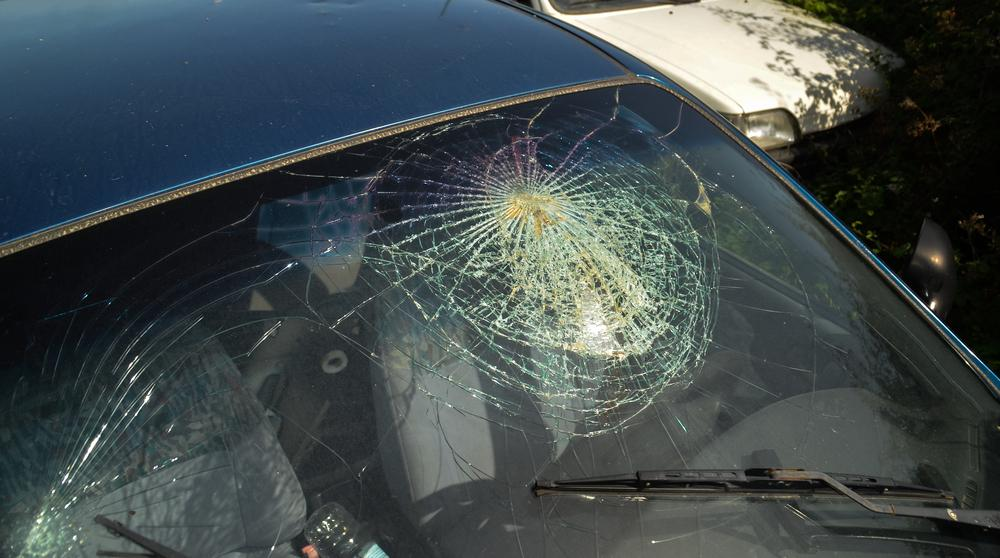glass shatter: (0, 83, 1000, 558)
